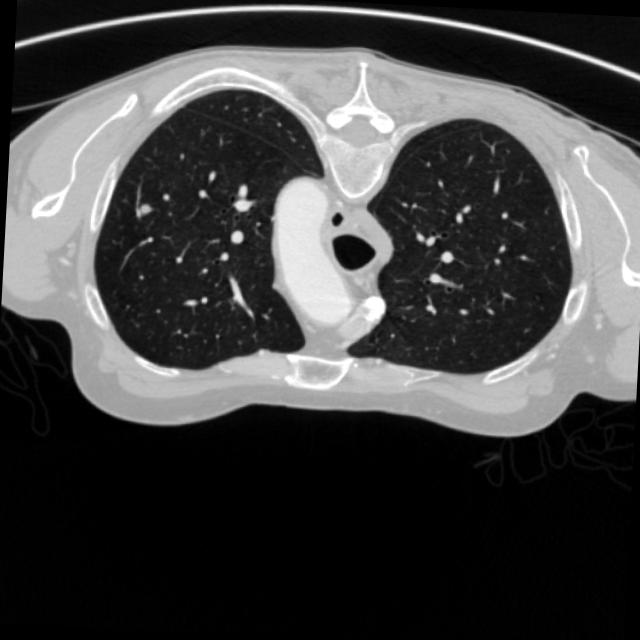nodule: (132, 196, 158, 222)
